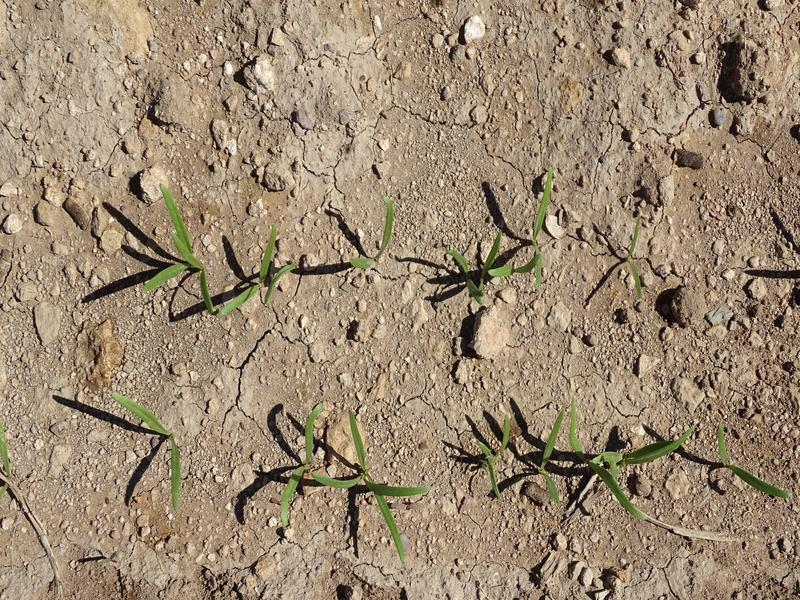Espinaca: (269, 404, 433, 537), (567, 403, 691, 522), (145, 180, 218, 315), (105, 388, 185, 507), (710, 428, 792, 503), (226, 222, 292, 309), (438, 234, 504, 300), (529, 166, 559, 291), (354, 194, 400, 268), (471, 412, 512, 492), (538, 409, 562, 503), (623, 217, 648, 304)
